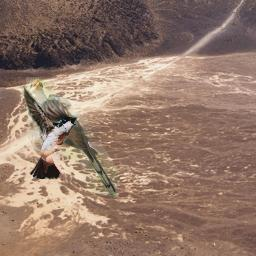Cuckoo: (26, 77, 119, 196)
Swallow: (20, 83, 78, 179)
